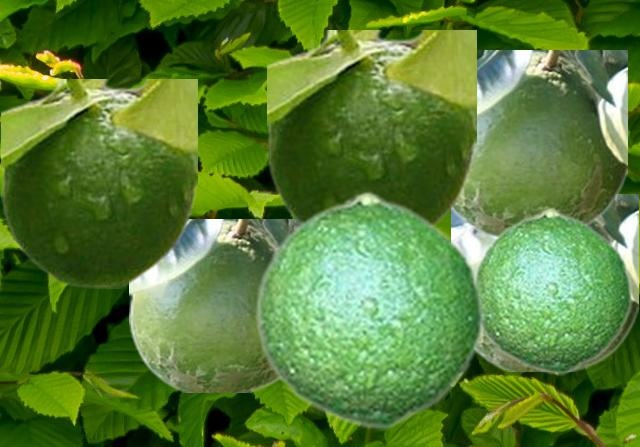dalandan: (253, 190, 484, 429), (267, 30, 475, 226), (1, 79, 196, 287), (451, 194, 637, 370), (450, 50, 626, 235), (129, 219, 296, 391), (475, 207, 632, 374)
